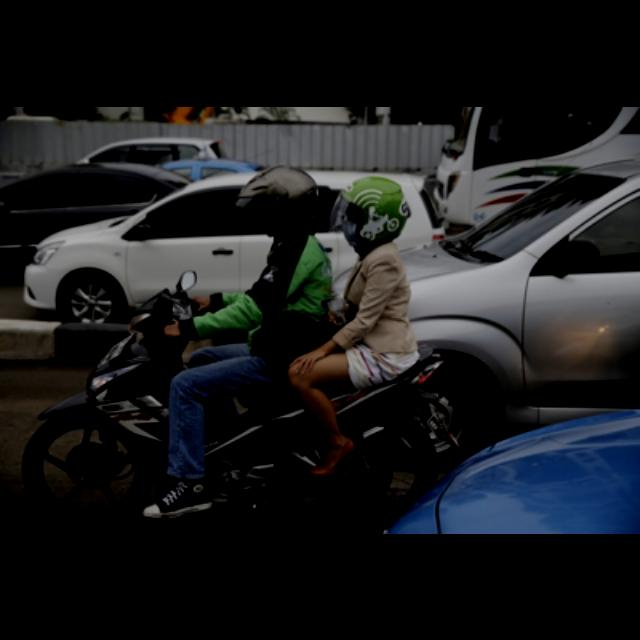With Helmet: (230, 155, 326, 245)
